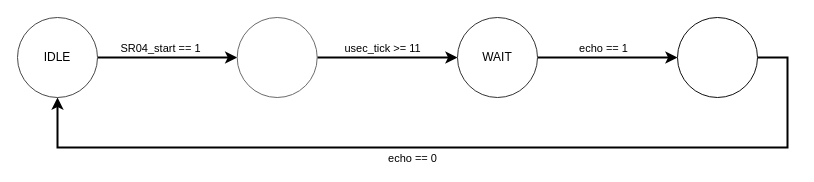
This 814x182 diagram has some shape labels left out. Each missing label, with the box of its shape:
RESPONSE: (676, 16, 758, 98)
START trig = 1: (236, 16, 317, 98)
